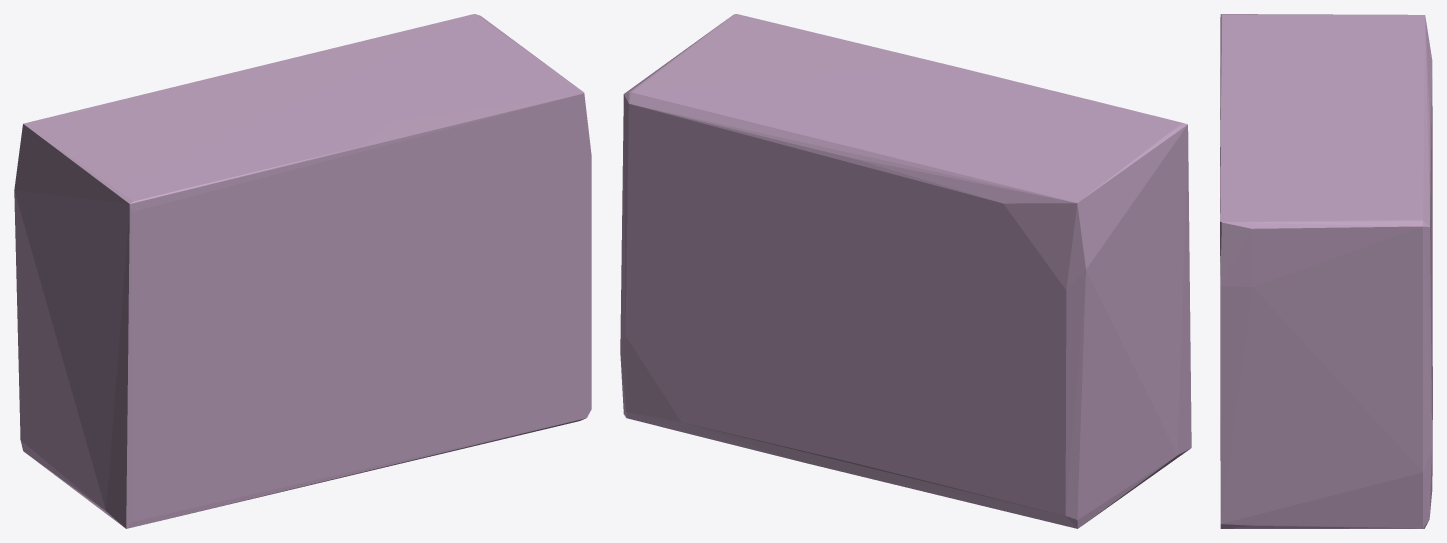
Rendered from crate_green_a01.glb.
3 renders of one model, left to right at view 1: azimuth 30°, elevation 25°; view 2: azimuth 150°, elevation 25°; view 3: azimuth 270°, elevation 25°, orthographic. The views are drawn at different scales.
Parts seen in each view (by area): view 1: geometry_0; view 2: geometry_0; view 3: geometry_0.
Boxes of the visible parts, x1,y1,x2,y2 form: geometry_0: (14,14,591,528); geometry_0: (620,14,1191,528); geometry_0: (1220,14,1432,528).
Size of the model in its own units: 0.4795 by 0.3214 by 0.2008.
